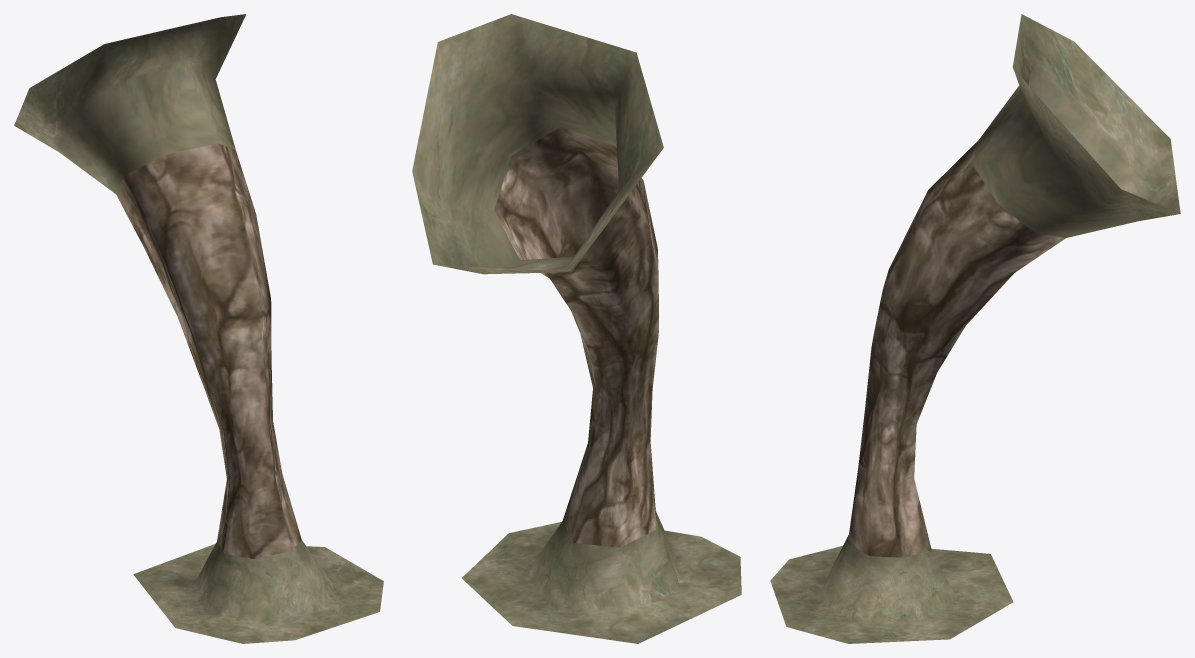
The model's file is EKH_GROTTO_PS_GR_PIL_494948__GX.fbx.
The picture shows the model from 3 angles, left to right: view 1: azimuth 30°, elevation 25°; view 2: azimuth 150°, elevation 25°; view 3: azimuth 270°, elevation 25°; orthographic projection. The views are drawn at different scales.
Parts seen in each view (by area): view 1: EKH_GROTTO_PS_GR_PIL_494948__GX; view 2: EKH_GROTTO_PS_GR_PIL_494948__GX; view 3: EKH_GROTTO_PS_GR_PIL_494948__GX.
Part boxes in pixels (<box>): EKH_GROTTO_PS_GR_PIL_494948__GX: <box>14,14,383,643</box>; EKH_GROTTO_PS_GR_PIL_494948__GX: <box>412,14,741,643</box>; EKH_GROTTO_PS_GR_PIL_494948__GX: <box>770,14,1180,643</box>.
Size of the model in its own units: 36913 by 75970 by 52735.
Materials: 2 (2 with a texture image).
